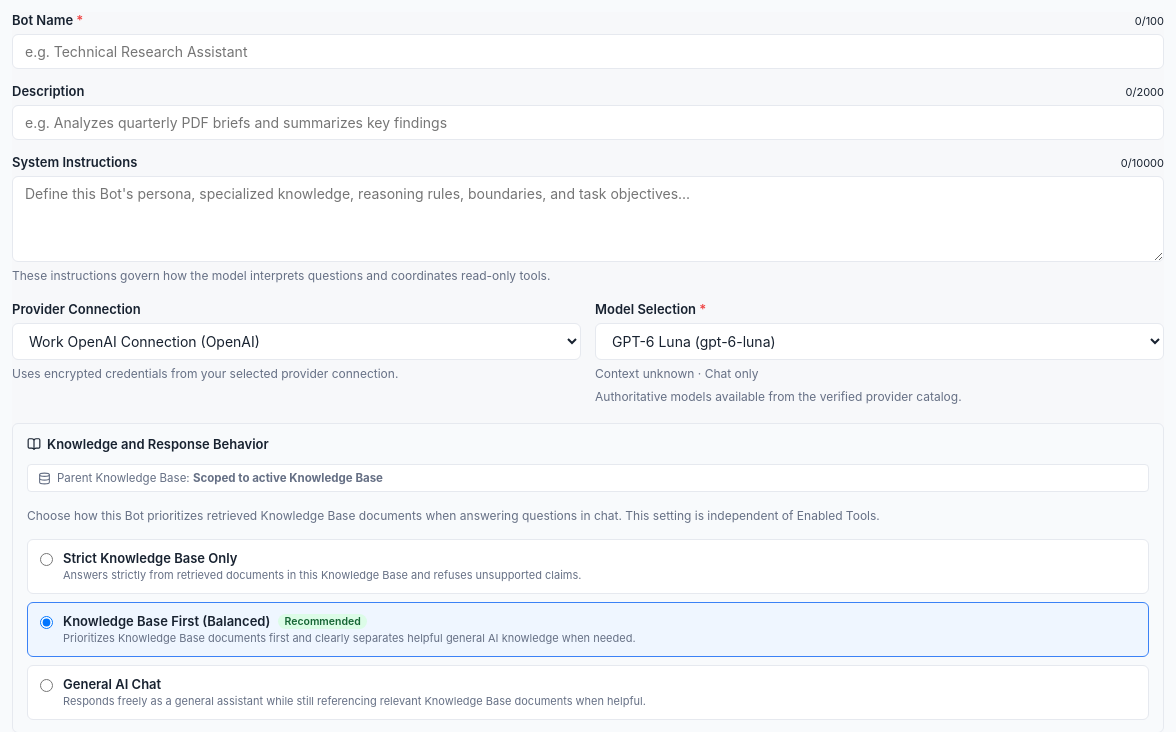
Test case: Renderer: BotConfigurationForm (Phase 6 Step 6.5) › 6. automatically switches model when current model is incompatible with newly selected provider
The width and height of the screenshot is (1176, 732).
Switch from OpenAI to Anthropic
Select "Claude Workspace Key (Anthropic)" in the dropdown with test id "bot-provider-select": (296, 341) [12,323,581,360]
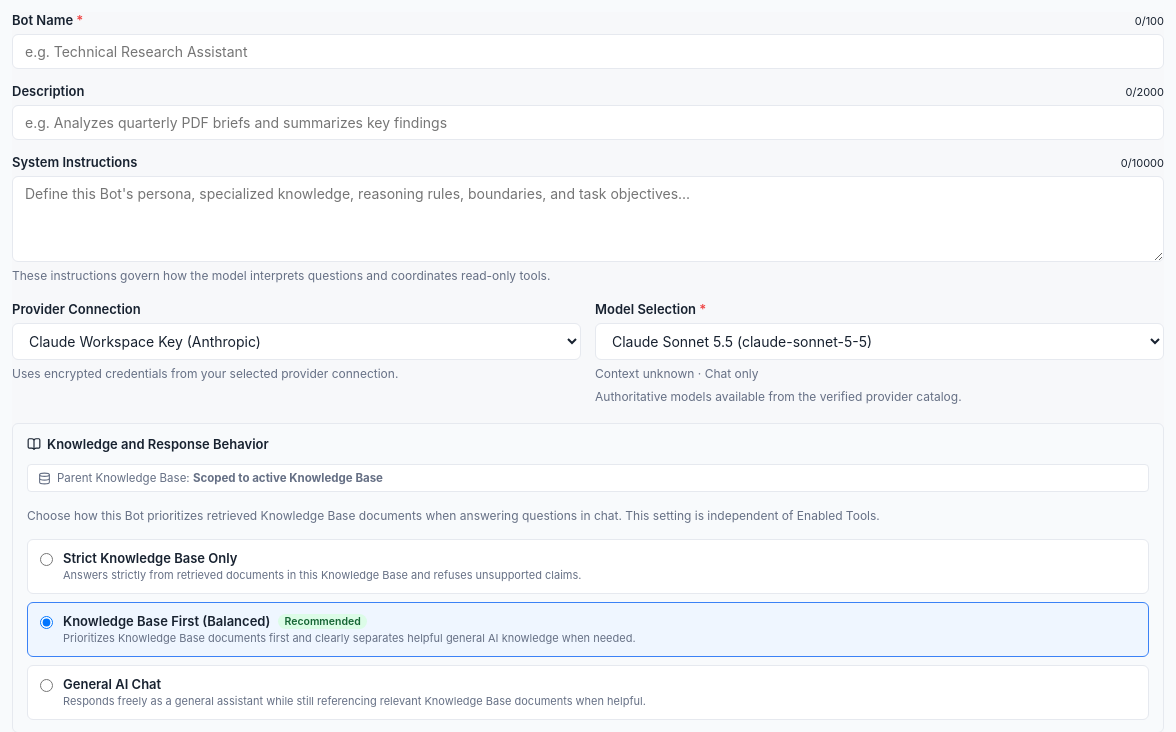
expect the dropdown with test id "bot-model-select" shows "Claude Sonnet 5.5 (claude-sonnet-5-5)": met, box [595,323,1164,360]
